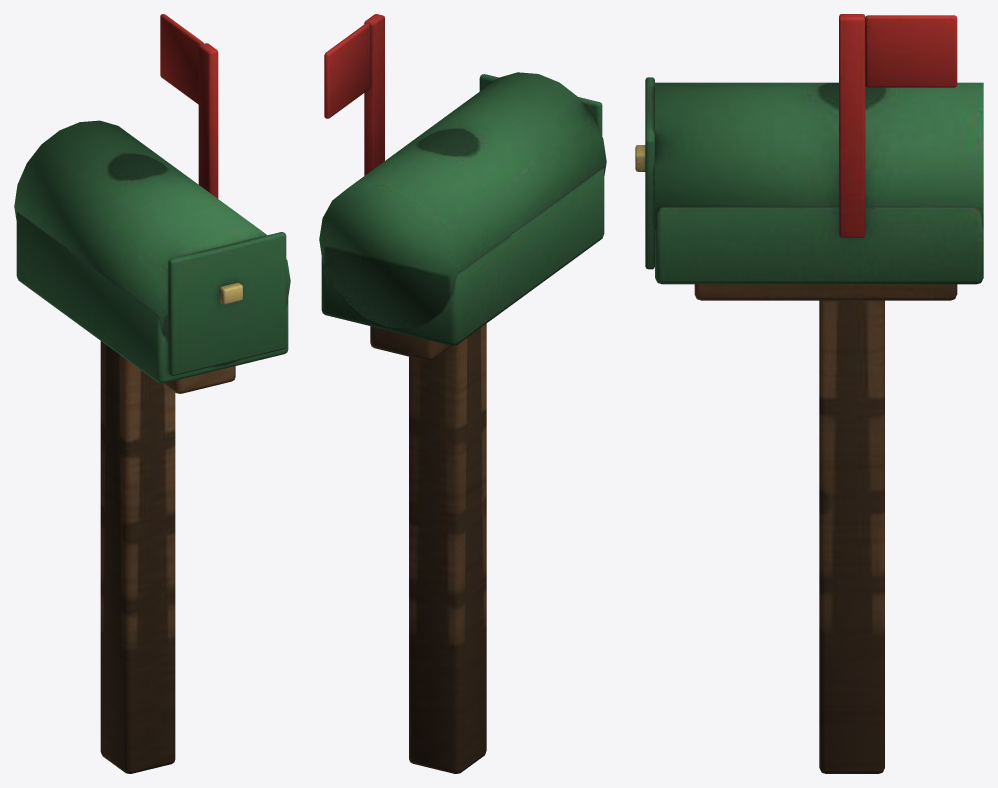
The model's file is mailbox.glb.
The picture shows the model from 3 angles, left to right: view 1: azimuth 30°, elevation 25°; view 2: azimuth 150°, elevation 25°; view 3: azimuth 270°, elevation 25°; orthographic projection. The views are drawn at different scales.
Visible parts, largest first — view 1: mailbox; view 2: mailbox; view 3: mailbox.
Part boxes in pixels (box(x1,y1,x2,y2)): mailbox: box(14, 14, 290, 773); mailbox: box(319, 14, 606, 773); mailbox: box(635, 14, 983, 773).
Bounding box in the file's own units: 0.28 × 1.32 × 0.53.
5 materials, 5 textured.
